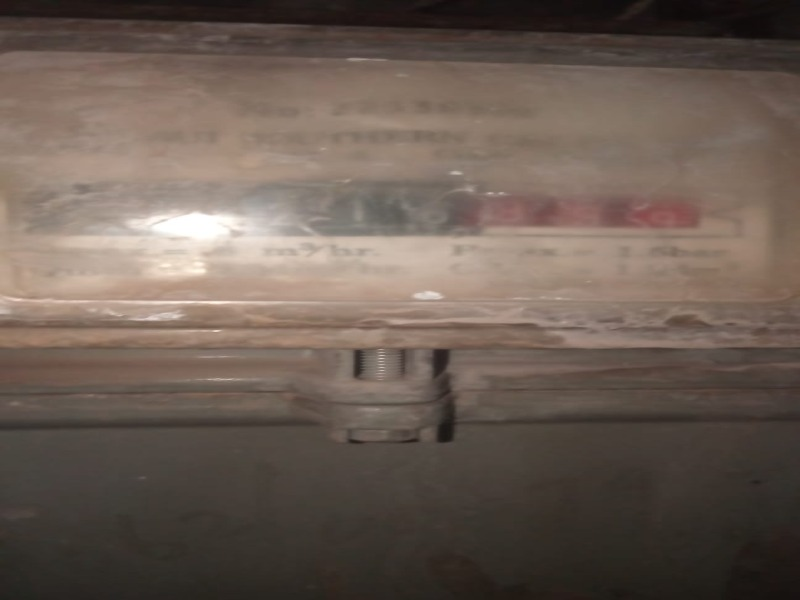ssgc: (12, 176, 714, 248)
